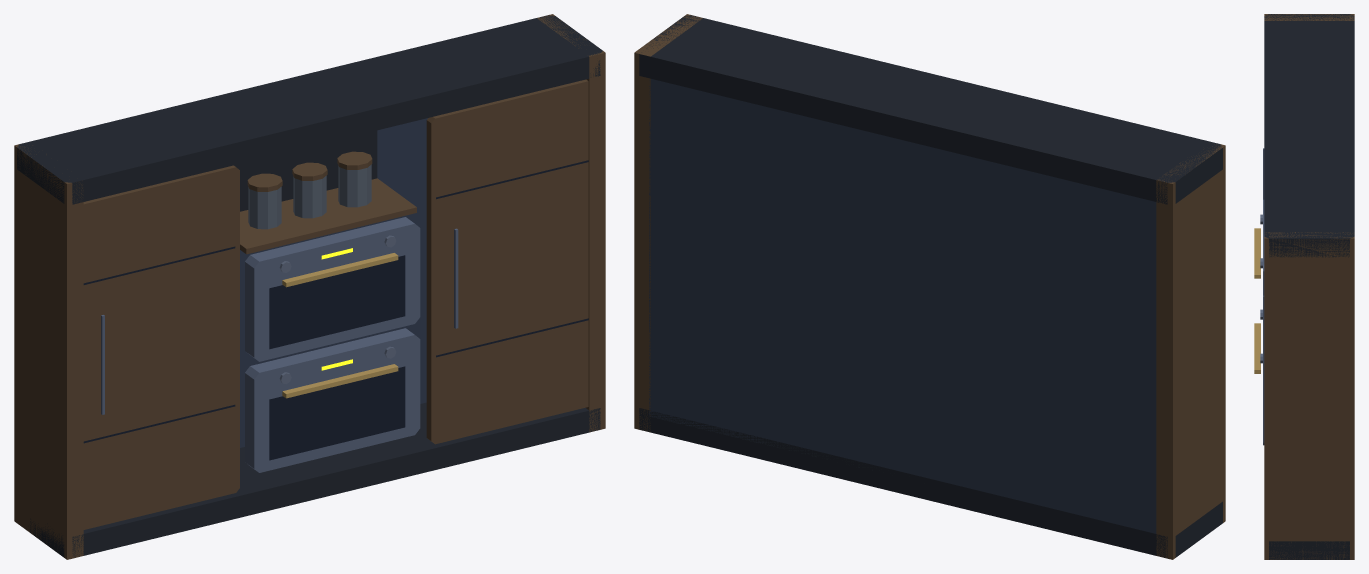
File: res_kitchen_cabinet_bank.glb
The picture shows the model from 3 angles, left to right: view 1: azimuth 30°, elevation 25°; view 2: azimuth 150°, elevation 25°; view 3: azimuth 270°, elevation 25°; orthographic projection. The views are drawn at different scales.
Visible parts, largest first — view 1: jar_lid, cabinet_cap, oven_surround, joinery_seam, recessed_back, storage_jar, oven_handle; view 2: recessed_back, cabinet_cap, jar_lid; view 3: jar_lid, cabinet_cap, oven_handle, oven_surround.
Boxes of the visible parts, x1,y1,x2,y2 form: jar_lid: (14, 14, 605, 559); cabinet_cap: (17, 15, 602, 558); oven_surround: (101, 217, 458, 472); joinery_seam: (83, 160, 588, 460); recessed_back: (240, 118, 427, 447); storage_jar: (248, 164, 371, 229); oven_handle: (282, 253, 398, 398); recessed_back: (649, 79, 1156, 533); cabinet_cap: (639, 15, 1222, 558); jar_lid: (634, 14, 1225, 559); jar_lid: (1264, 14, 1354, 559); cabinet_cap: (1264, 14, 1354, 559); oven_handle: (1254, 228, 1260, 373); oven_surround: (1263, 148, 1264, 445).
Bounding box in the file's own units: 3.6 × 2.4 × 0.68.
